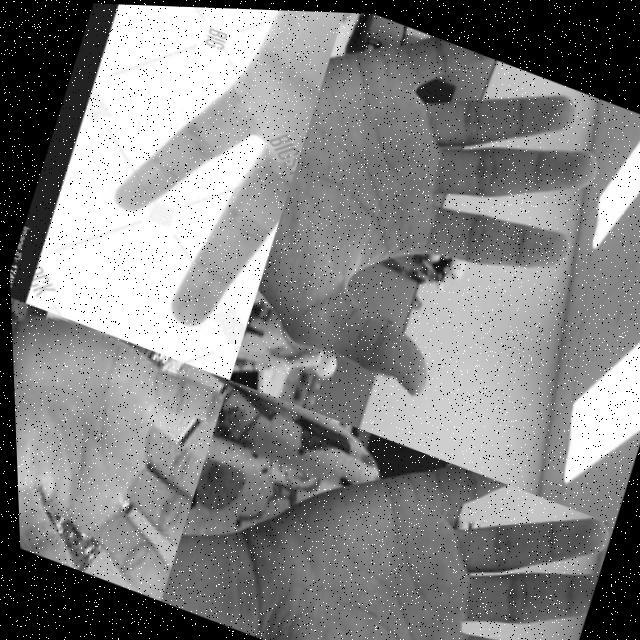no-gloves: (229, 7, 628, 439), (0, 0, 356, 381), (227, 405, 614, 640), (8, 297, 232, 601)
